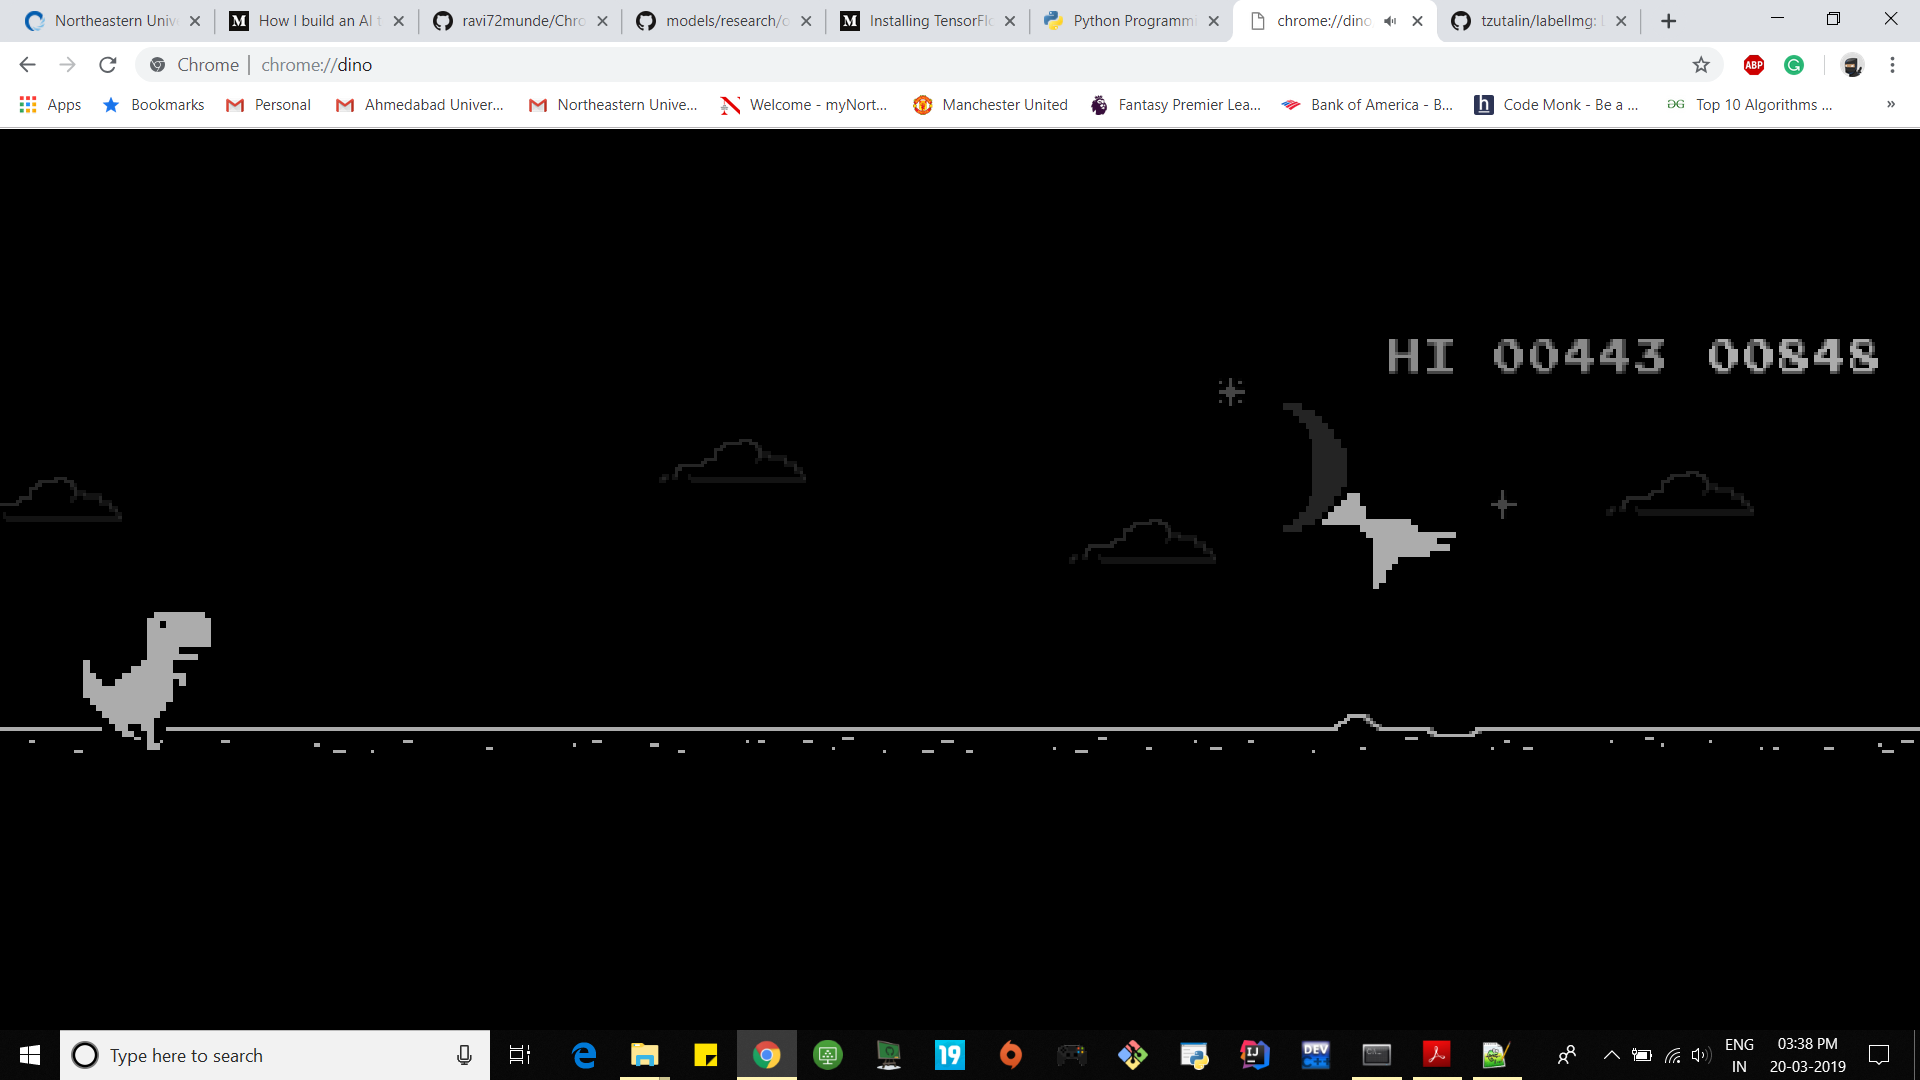bird: (1323, 491, 1456, 589)
dino: (79, 611, 214, 752)
